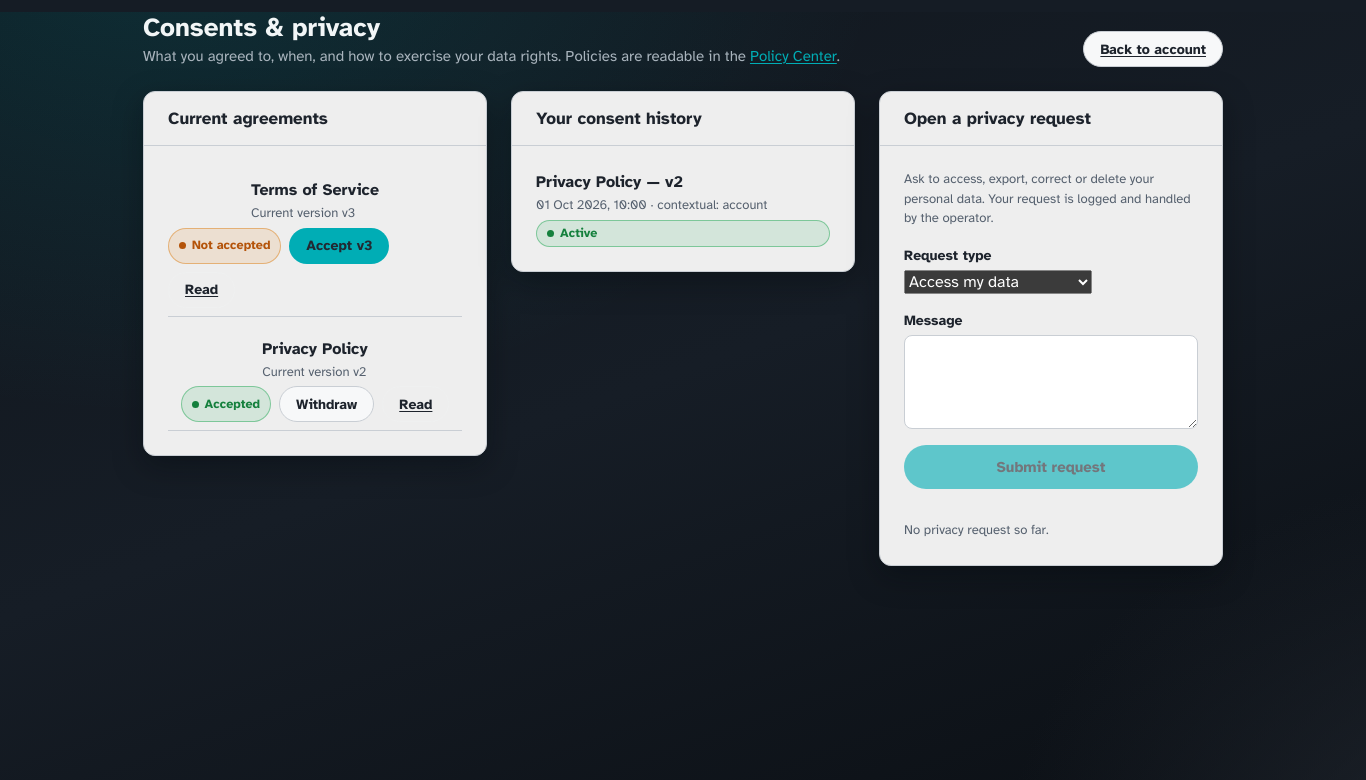
Test: ConsentsPage › withdraws an existing consent
Click the button "Withdraw": x=327, y=404 [279,386,374,422]
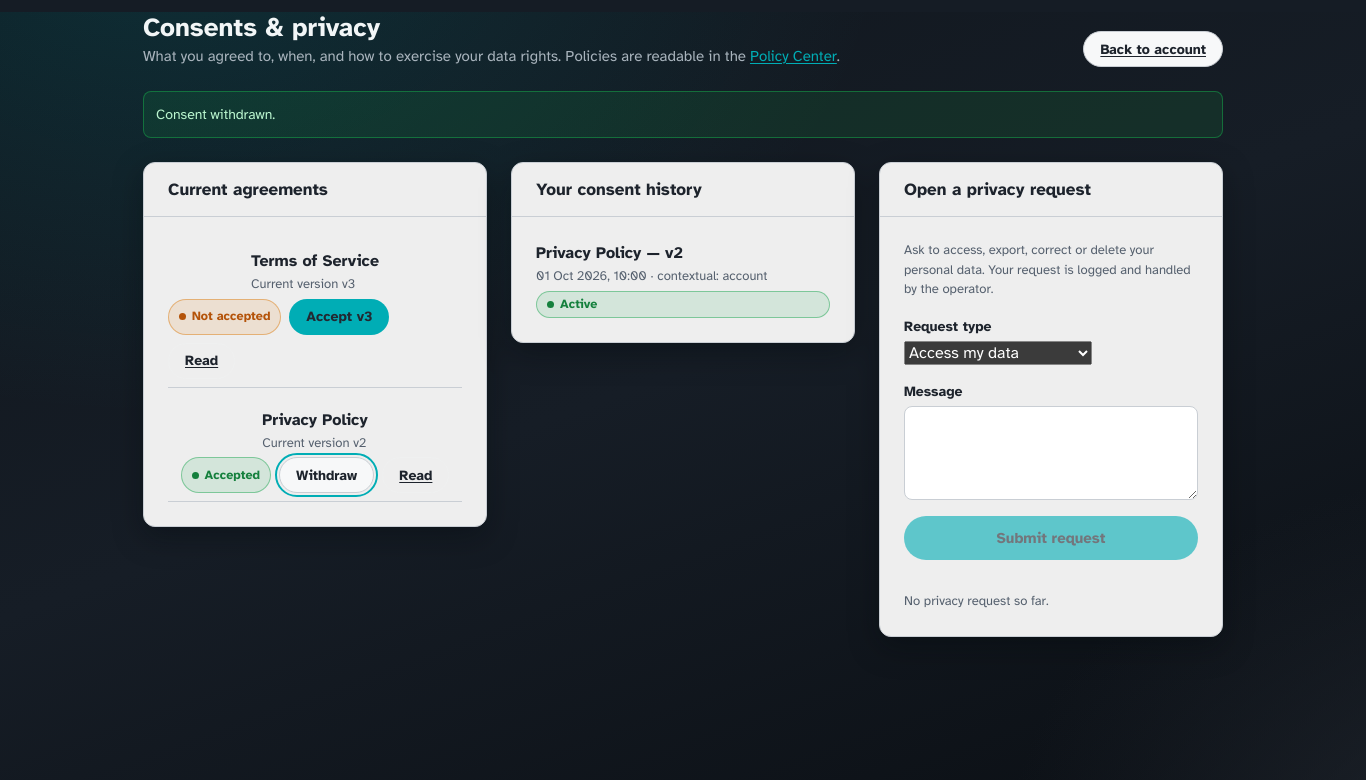
expect the text "Consent withdrawn." is shown: met, box [143,91,1223,138]
